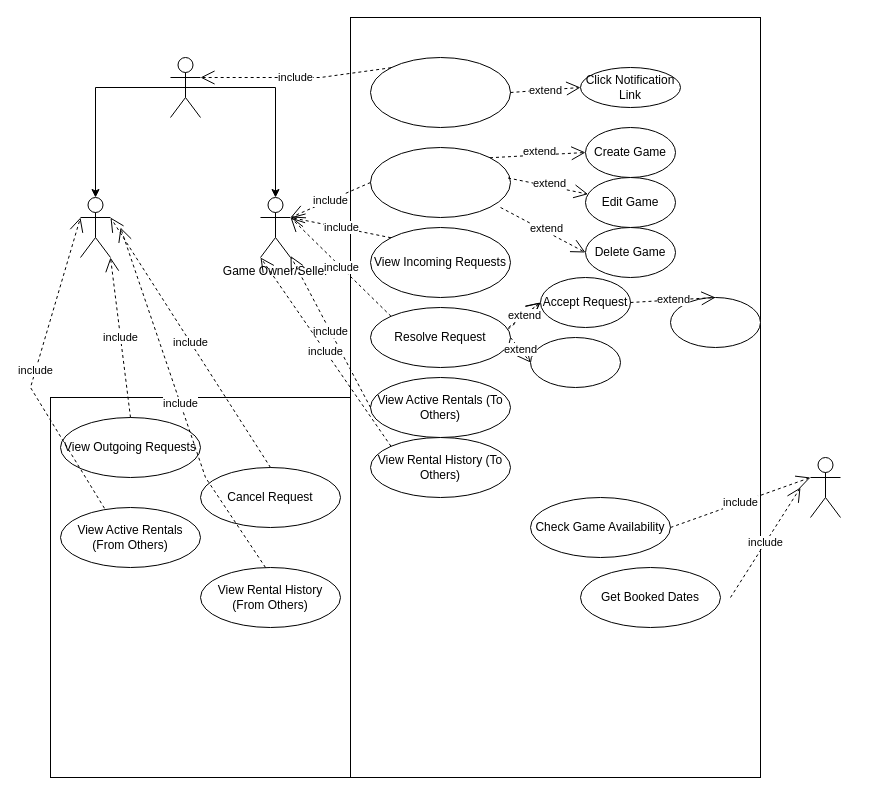
Some shapes in this 875 by 795 pixel diagram are drawn without their labels. The shapes that lost their labels are listed below. From the top down, each one's centre as x and y in pixels, then its label:
point 185,87: User
point 440,92: View Notifications
point 440,182: Manage Game Listings
point 95,227: Renter
point 715,322: Cancel Overlapping Requests
point 575,362: Decline Request
point 825,487: Booking API
